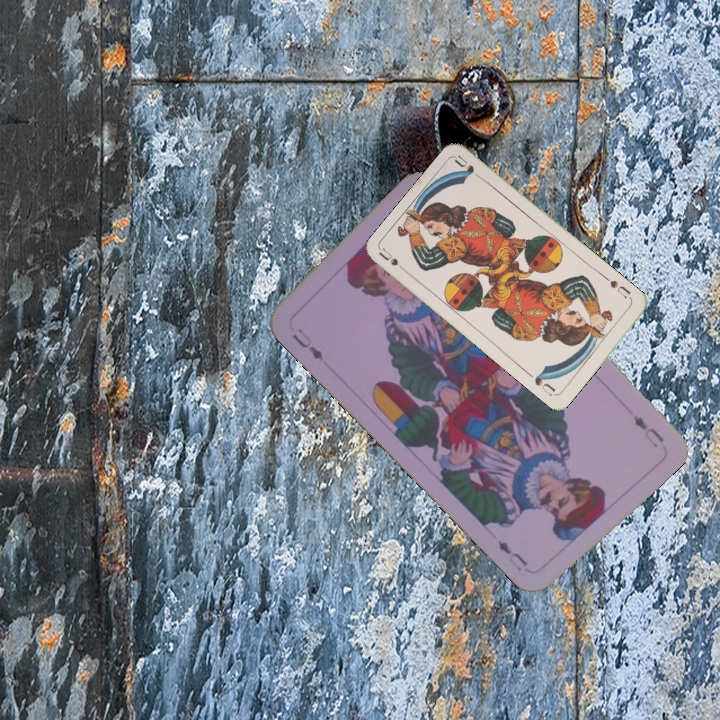EU: (288, 324, 326, 364), (629, 411, 667, 450)
SU: (375, 245, 412, 277), (606, 276, 633, 301)
